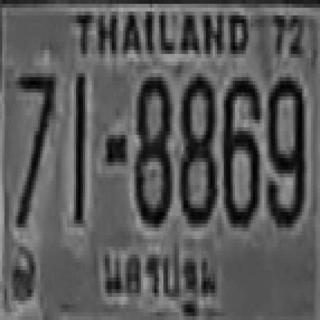N01: (72, 71, 85, 222), (73, 71, 84, 222)
N06: (223, 73, 258, 224)
N07: (15, 69, 52, 224)
N08: (134, 73, 170, 224), (179, 73, 215, 220)
N09: (266, 73, 304, 224)
P28: (99, 240, 220, 318)
